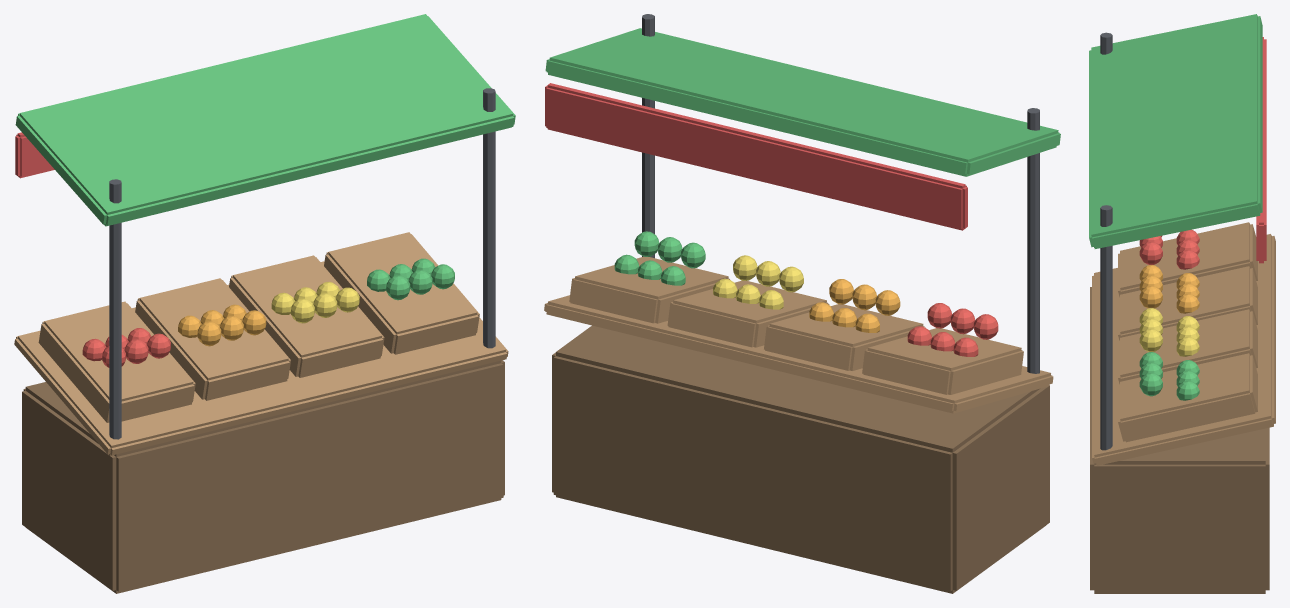
Rendered from Market_ManavReyonu.fbx.
3 renders of one model, left to right at view 1: azimuth 30°, elevation 25°; view 2: azimuth 150°, elevation 25°; view 3: azimuth 270°, elevation 25°, orthographic. The views are drawn at different scales.
Visible parts, largest first — view 1: Market_ManavReyonu; view 2: Market_ManavReyonu; view 3: Market_ManavReyonu.
Boxes of the visible parts, <box> form: Market_ManavReyonu: <box>14,14,515,593</box>; Market_ManavReyonu: <box>544,14,1060,593</box>; Market_ManavReyonu: <box>1089,14,1275,593</box>.
Size of the model in its own units: 2.2 by 2.15 by 0.9159.
